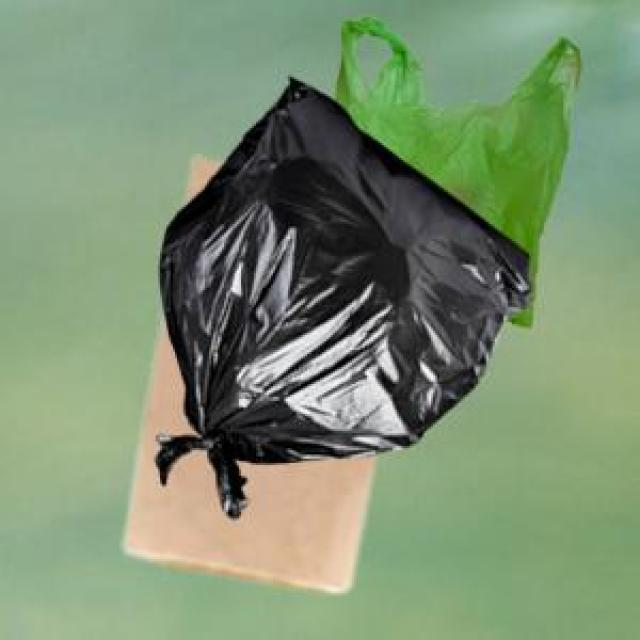miscellaneous trash: (152, 75, 527, 514)
paper: (122, 156, 371, 587)
